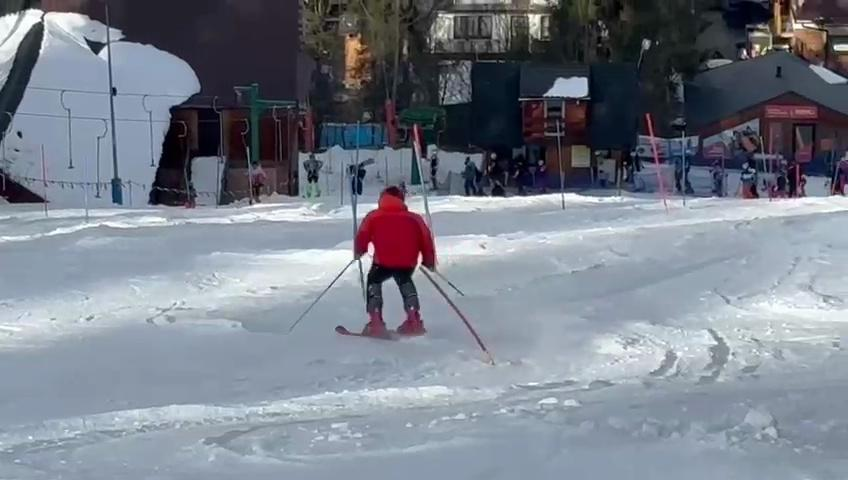gate: (638, 109, 670, 227), (412, 125, 438, 243), (555, 119, 569, 218), (677, 132, 691, 206)
